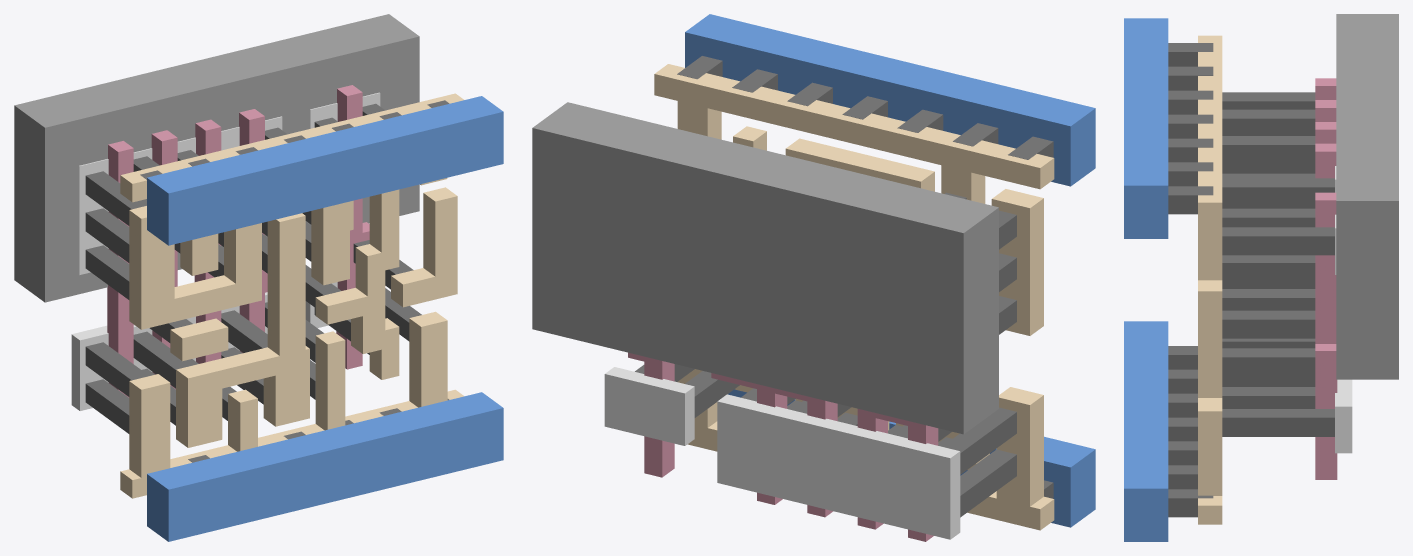
The model's file is sky130_fd_sc_hd__lpflow_isobufsrc_2.gds.gltf.
The picture shows the model from 3 angles, left to right: view 1: azimuth 30°, elevation 25°; view 2: azimuth 150°, elevation 25°; view 3: azimuth 270°, elevation 25°; orthographic projection. The views are drawn at different scales.
Visible parts, largest first — view 1: sky130_fd_sc_hd__lpflow_isobufsrc_2_li1, sky130_fd_sc_hd__lpflow_isobufsrc_2_met1, sky130_fd_sc_hd__lpflow_isobufsrc_2_nwell, sky130_fd_sc_hd__lpflow_isobufsrc_2_licon, sky130_fd_sc_hd__lpflow_isobufsrc_2_poly, sky130_fd_sc_hd__lpflow_isobufsrc_2_diff, sky130_fd_sc_hd__lpflow_isobufsrc_2_mcon; view 2: sky130_fd_sc_hd__lpflow_isobufsrc_2_nwell, sky130_fd_sc_hd__lpflow_isobufsrc_2_li1, sky130_fd_sc_hd__lpflow_isobufsrc_2_diff, sky130_fd_sc_hd__lpflow_isobufsrc_2_met1, sky130_fd_sc_hd__lpflow_isobufsrc_2_licon, sky130_fd_sc_hd__lpflow_isobufsrc_2_poly, sky130_fd_sc_hd__lpflow_isobufsrc_2_mcon; view 3: sky130_fd_sc_hd__lpflow_isobufsrc_2_licon, sky130_fd_sc_hd__lpflow_isobufsrc_2_nwell, sky130_fd_sc_hd__lpflow_isobufsrc_2_met1, sky130_fd_sc_hd__lpflow_isobufsrc_2_mcon, sky130_fd_sc_hd__lpflow_isobufsrc_2_li1, sky130_fd_sc_hd__lpflow_isobufsrc_2_poly, sky130_fd_sc_hd__lpflow_isobufsrc_2_diff.
Part boxes in pixels (left/top/right/bottom): sky130_fd_sc_hd__lpflow_isobufsrc_2_li1: left=120, top=93, right=463, bottom=498; sky130_fd_sc_hd__lpflow_isobufsrc_2_met1: left=147, top=96, right=503, bottom=541; sky130_fd_sc_hd__lpflow_isobufsrc_2_nwell: left=14, top=14, right=419, bottom=302; sky130_fd_sc_hd__lpflow_isobufsrc_2_licon: left=85, top=103, right=421, bottom=433; sky130_fd_sc_hd__lpflow_isobufsrc_2_poly: left=107, top=85, right=369, bottom=397; sky130_fd_sc_hd__lpflow_isobufsrc_2_diff: left=71, top=92, right=380, bottom=410; sky130_fd_sc_hd__lpflow_isobufsrc_2_mcon: left=140, top=100, right=449, bottom=462; sky130_fd_sc_hd__lpflow_isobufsrc_2_nwell: left=532, top=102, right=998, bottom=434; sky130_fd_sc_hd__lpflow_isobufsrc_2_li1: left=654, top=64, right=1054, bottom=530; sky130_fd_sc_hd__lpflow_isobufsrc_2_diff: left=604, top=367, right=960, bottom=539; sky130_fd_sc_hd__lpflow_isobufsrc_2_met1: left=685, top=14, right=1095, bottom=527; sky130_fd_sc_hd__lpflow_isobufsrc_2_licon: left=635, top=192, right=1016, bottom=517; sky130_fd_sc_hd__lpflow_isobufsrc_2_poly: left=628, top=352, right=938, bottom=541; sky130_fd_sc_hd__lpflow_isobufsrc_2_mcon: left=677, top=56, right=1053, bottom=498; sky130_fd_sc_hd__lpflow_isobufsrc_2_licon: left=1222, top=92, right=1334, bottom=436; sky130_fd_sc_hd__lpflow_isobufsrc_2_nwell: left=1336, top=14, right=1398, bottom=379; sky130_fd_sc_hd__lpflow_isobufsrc_2_met1: left=1124, top=18, right=1168, bottom=541; sky130_fd_sc_hd__lpflow_isobufsrc_2_mcon: left=1168, top=43, right=1213, bottom=517; sky130_fd_sc_hd__lpflow_isobufsrc_2_li1: left=1198, top=35, right=1222, bottom=524; sky130_fd_sc_hd__lpflow_isobufsrc_2_poly: left=1315, top=78, right=1337, bottom=479; sky130_fd_sc_hd__lpflow_isobufsrc_2_diff: left=1335, top=166, right=1352, bottom=453.
Size of the model in its own units: 3.6 by 3.2 by 2.24.
